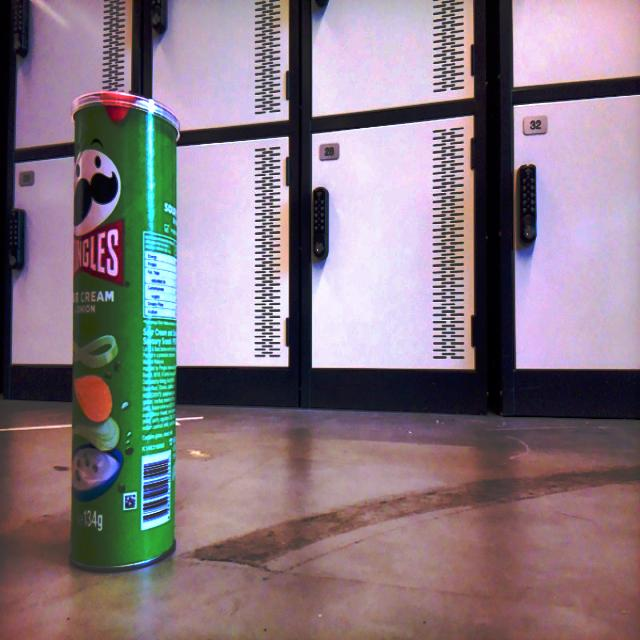greenpringles: (59, 83, 185, 598)
